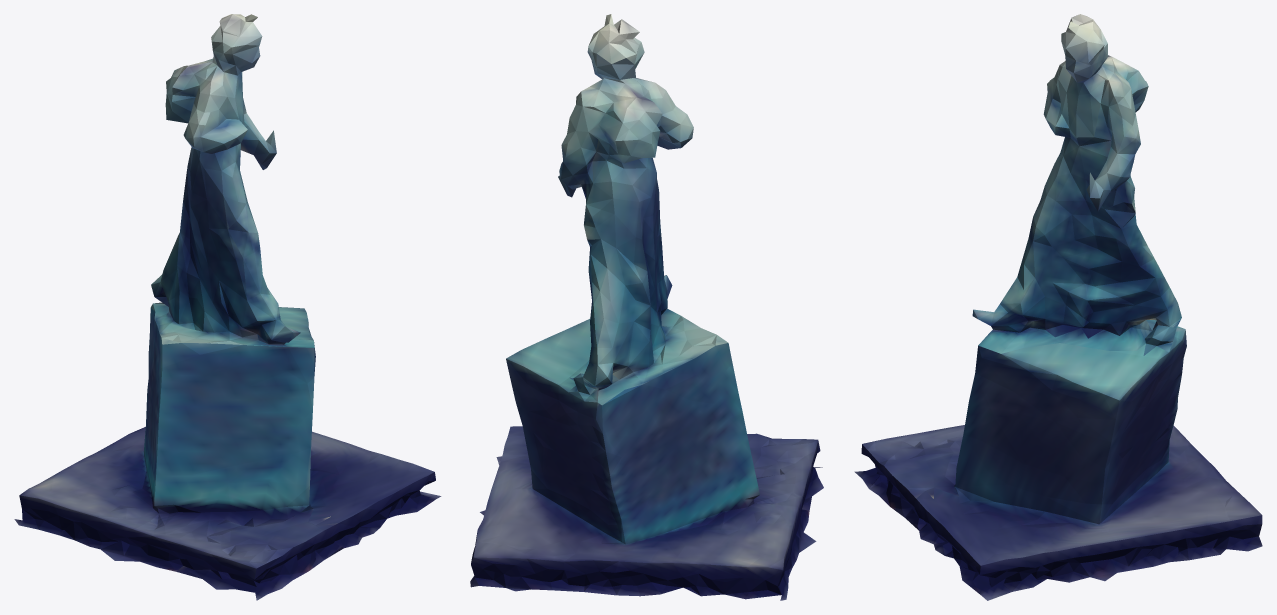
The model's file is s_kostka.obj.
3 renders of one model, left to right at view 1: azimuth 30°, elevation 25°; view 2: azimuth 150°, elevation 25°; view 3: azimuth 270°, elevation 25°, orthographic. The views are drawn at different scales.
Parts seen in each view (by area): view 1: saint_kostka; view 2: saint_kostka; view 3: saint_kostka.
Part boxes in pixels (<box>): saint_kostka: <box>14,14,441,600</box>; saint_kostka: <box>470,14,823,600</box>; saint_kostka: <box>854,14,1262,600</box>.
Bounding box in the file's own units: 5.68 × 7.62 × 5.57.
Materials: 1 (1 with a texture image).
